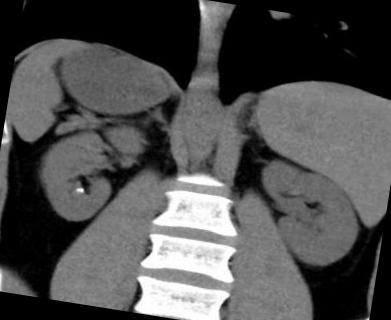Tas_Var: (78, 190, 84, 193), (74, 187, 78, 191), (80, 188, 83, 190)
